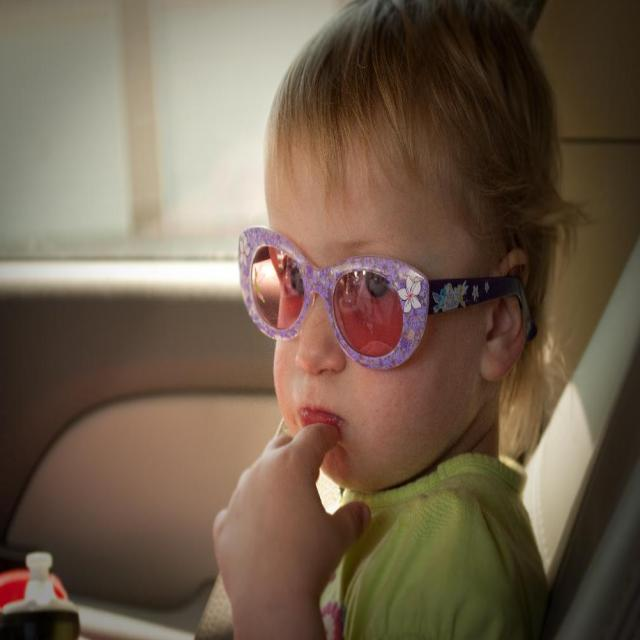Glasses: (238, 229, 536, 374)
